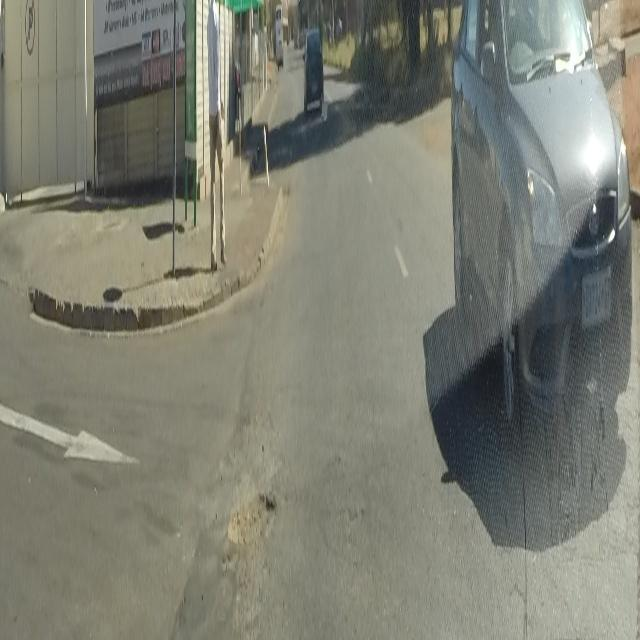pothole: (227, 491, 274, 547)
